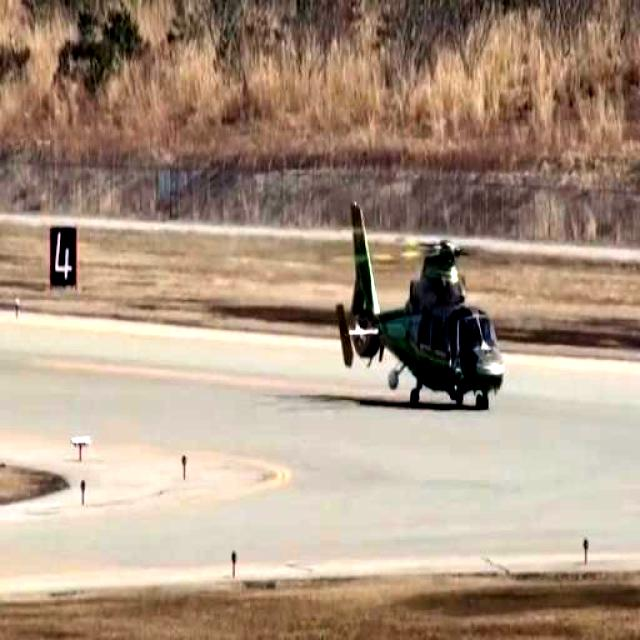drone: (328, 196, 512, 435)
